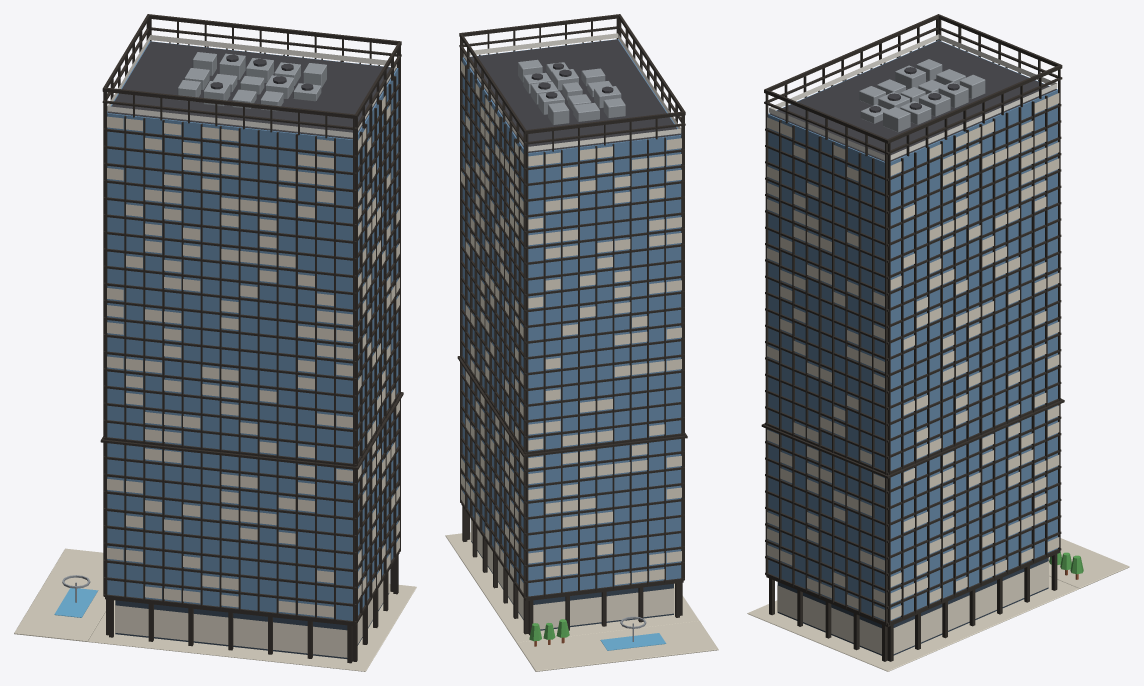
Rendered from 560-mission-street.glb.
3 renders of one model, left to right at view 1: azimuth 30°, elevation 25°; view 2: azimuth 150°, elevation 25°; view 3: azimuth 270°, elevation 25°, orthographic. The views are drawn at different scales.
Visible parts, largest first — view 1: 560-mission-street_body, 560-mission-street_night_glow; view 2: 560-mission-street_body, 560-mission-street_night_glow; view 3: 560-mission-street_body, 560-mission-street_night_glow.
Part boxes in pixels (x1=…): 560-mission-street_body: x1=14, y1=14, x2=416, y2=671; 560-mission-street_night_glow: x1=107, y1=35, x2=399, y2=657; 560-mission-street_body: x1=445, y1=14, x2=718, y2=671; 560-mission-street_night_glow: x1=461, y1=33, x2=681, y2=629; 560-mission-street_body: x1=747, y1=14, x2=1129, y2=671; 560-mission-street_night_glow: x1=767, y1=34, x2=1059, y2=654.
Size of the model in its own units: 85.15 by 128 by 84.58.
